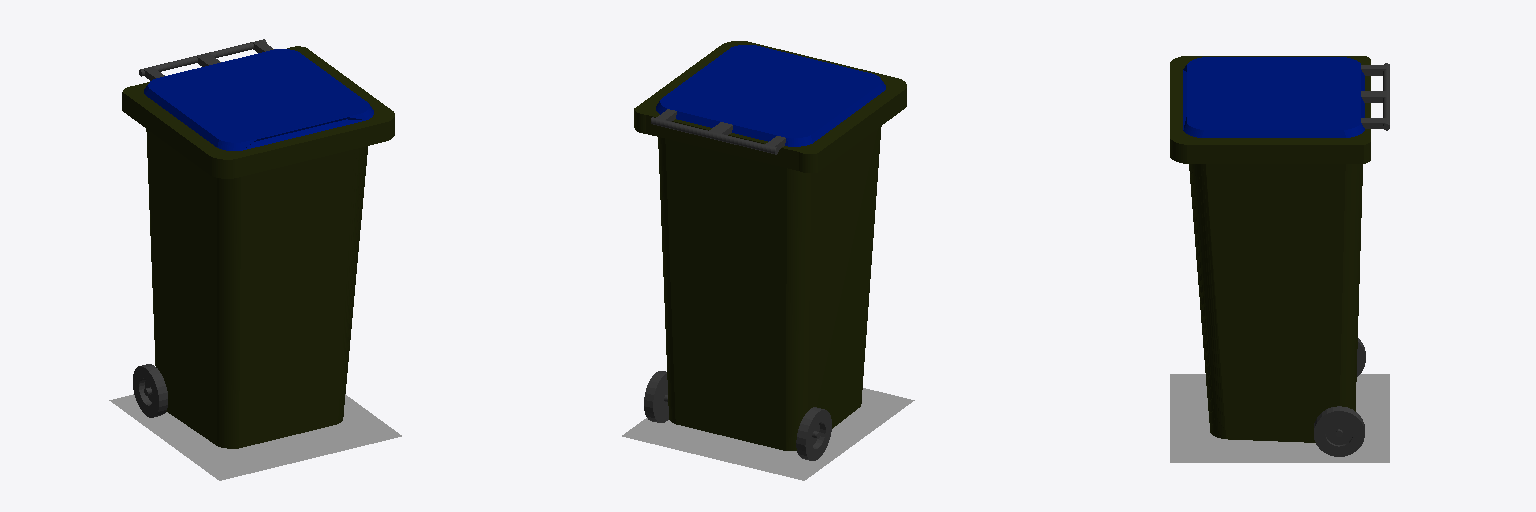
File: Bote_Basura.obj
3 renders of one model, left to right at view 1: azimuth 30°, elevation 25°; view 2: azimuth 150°, elevation 25°; view 3: azimuth 270°, elevation 25°, orthographic.
Parts seen in each view (by area): view 1: 2_2_4, 3_3_11, 4_4_8, ground_1, 24_24_14, 1_1_140_7, 1_1_6; view 2: 2_2_4, 3_3_11, 4_4_8, ground_1, 24_24_14, 23_23_9, 1_1_140_7, 1_1_6; view 3: 2_2_4, 3_3_11, ground_1, 4_4_8, 23_23_9, 1_1_6.
Boxes of the visible parts, <box> form: 2_2_4: <box>146,129,367,448</box>; 3_3_11: <box>144,49,373,150</box>; 4_4_8: <box>122,46,394,178</box>; ground_1: <box>109,394,401,480</box>; 24_24_14: <box>133,364,167,417</box>; 1_1_140_7: <box>140,39,266,76</box>; 1_1_6: <box>139,40,273,80</box>; 2_2_4: <box>658,126,881,450</box>; 3_3_11: <box>656,45,885,146</box>; 4_4_8: <box>634,41,906,172</box>; ground_1: <box>622,388,914,480</box>; 24_24_14: <box>796,407,831,460</box>; 23_23_9: <box>644,371,668,422</box>; 1_1_140_7: <box>651,117,776,154</box>; 1_1_6: <box>656,109,785,154</box>; 2_2_4: <box>1189,164,1362,442</box>; 3_3_11: <box>1183,57,1364,137</box>; ground_1: <box>1170,374,1389,462</box>; 4_4_8: <box>1170,56,1370,163</box>; 23_23_9: <box>1314,406,1364,456</box>; 1_1_6: <box>1361,65,1389,130</box>.
Size of the model in its own units: 60 by 102 by 62.5.